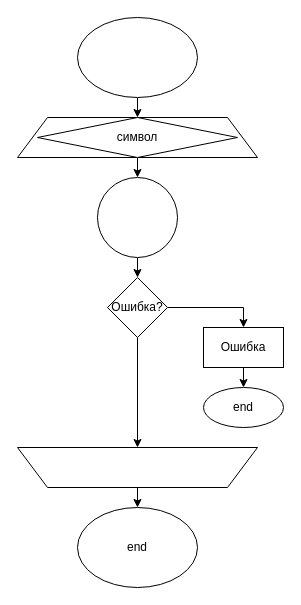
Image size: 301x605. Some labels were removed from this diagram. The box of each missing label's shape, as (x1, y1, x2, y2) in pixels:
begin: (76, 16, 198, 98)
sigs: (96, 176, 178, 258)
